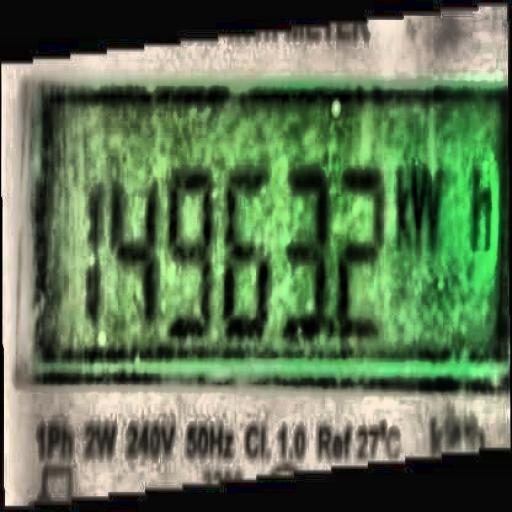DISPLAY_REGION: (15, 77, 509, 391)
SERIAL_REGION: (71, 164, 449, 345)
